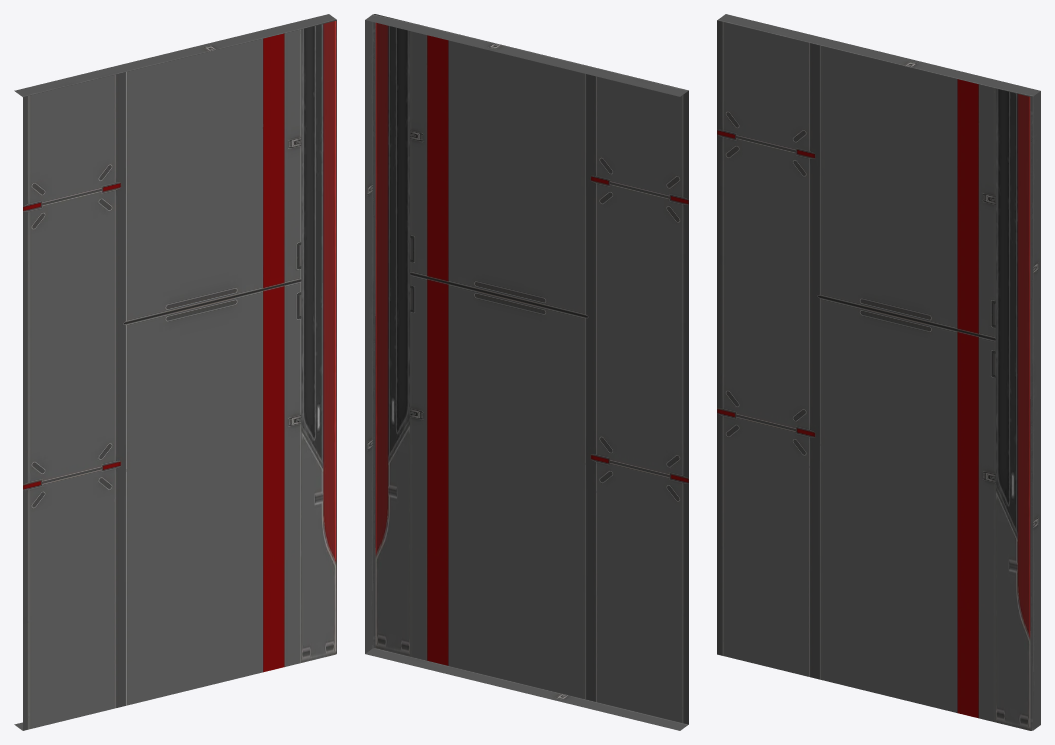
Rendered from Door_Metal.glb.
3 views of the same model, side by side, from view 1: azimuth 30°, elevation 25°; view 2: azimuth 150°, elevation 25°; view 3: azimuth 330°, elevation 25° (orthographic).
Visible parts, largest first — view 1: Door_Metal; view 2: Door_Metal; view 3: Door_Metal.
Part boxes in pixels (x1,y1,x2,y2): Door_Metal: [14, 14, 336, 730]; Door_Metal: [365, 14, 688, 730]; Door_Metal: [717, 14, 1040, 730].
Size of the model in its own units: 2.11 by 4.05 by 0.1018.
2 materials, 2 textured.
